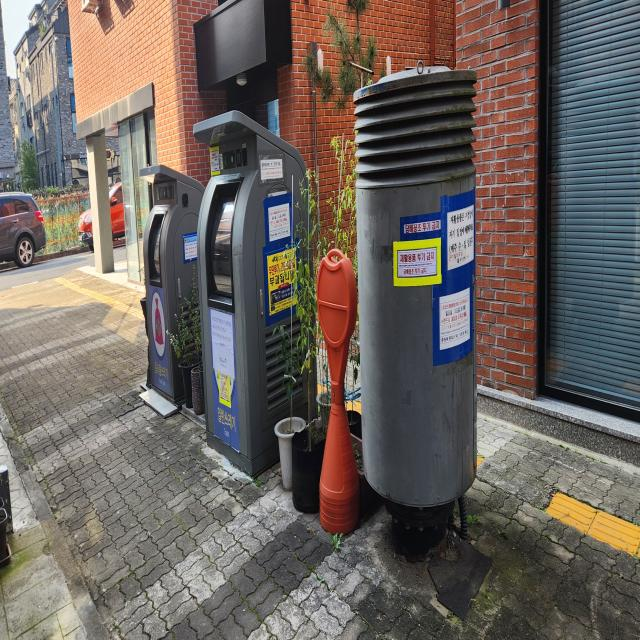CleanNet: (186, 100, 322, 489), (136, 149, 214, 417)
